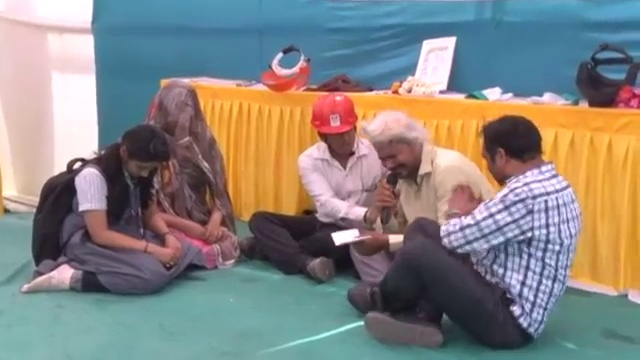helmet: (310, 93, 363, 137)
helmet_off: (476, 116, 555, 187), (367, 110, 432, 187), (108, 124, 172, 183), (154, 80, 204, 147)
helmet_on: (309, 94, 363, 169)
person: (343, 117, 581, 349), (21, 125, 195, 301), (243, 90, 390, 280), (350, 113, 493, 281), (137, 74, 240, 267)
